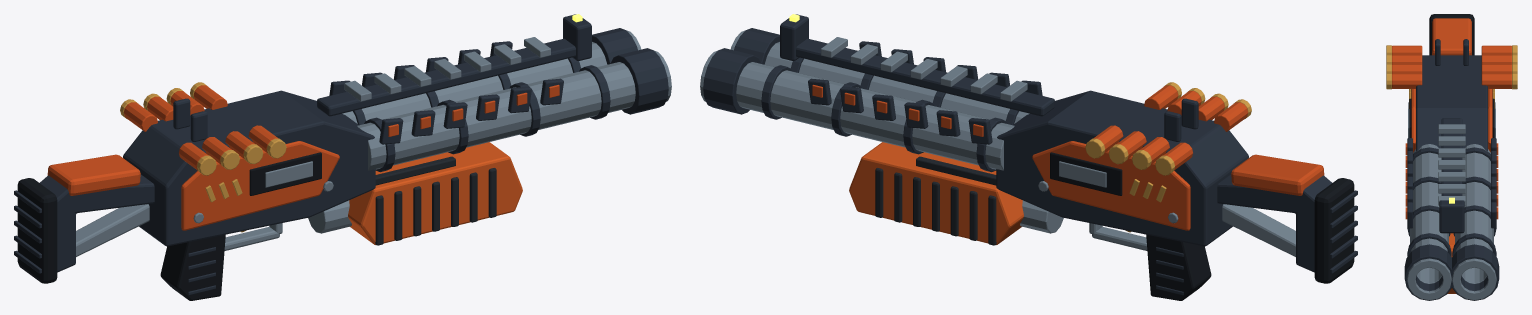
File: W02_vulcan.fbx
3 views of the same model, side by side, from view 1: azimuth 30°, elevation 25°; view 2: azimuth 150°, elevation 25°; view 3: azimuth 270°, elevation 25° (orthographic). The views are drawn at different scales.
Visible parts, largest first — view 1: Chassis, Steel, Armor, Pump, Rubber, PumpRibs, Brass; view 2: Chassis, Steel, Armor, Pump, Rubber, PumpRibs, Brass; view 3: Chassis, Steel, Armor, Rubber, Brass, Pump.
Boxes of the visible parts, <box> form: Chassis: <box>14,14,668,295</box>; Steel: <box>76,30,671,256</box>; Armor: <box>47,84,559,230</box>; Pump: <box>348,142,522,244</box>; Rubber: <box>17,152,321,300</box>; PumpRibs: <box>375,156,496,245</box>; Brass: <box>120,82,286,232</box>; Chassis: <box>703,14,1357,295</box>; Steel: <box>700,30,1295,256</box>; Armor: <box>812,84,1324,230</box>; Pump: <box>849,142,1023,244</box>; Rubber: <box>1050,152,1354,300</box>; PumpRibs: <box>875,156,996,245</box>; Brass: <box>1085,82,1251,232</box>; Chassis: <box>1404,39,1499,300</box>; Steel: <box>1407,102,1496,300</box>; Armor: <box>1392,18,1511,219</box>; Rubber: <box>1409,14,1494,137</box>; Brass: <box>1386,45,1517,108</box>; Pump: <box>1447,233,1456,293</box>.
Size of the model in its own units: 5.58 by 1.63 by 1.26.
